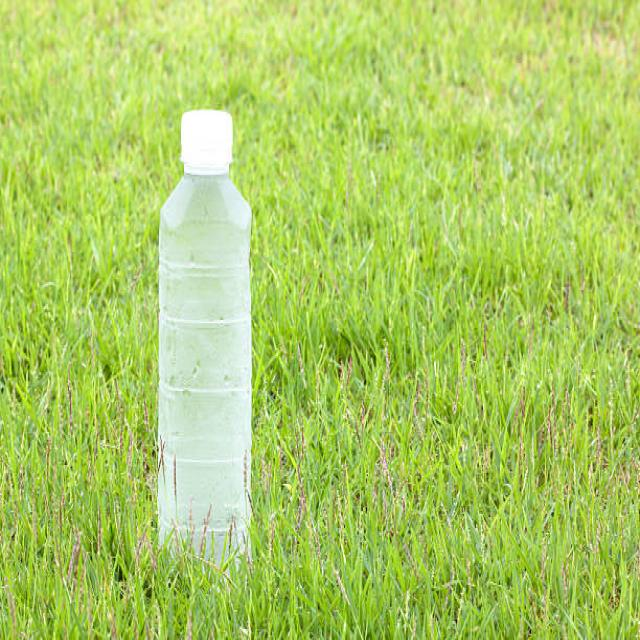plastic: (161, 106, 253, 561)
